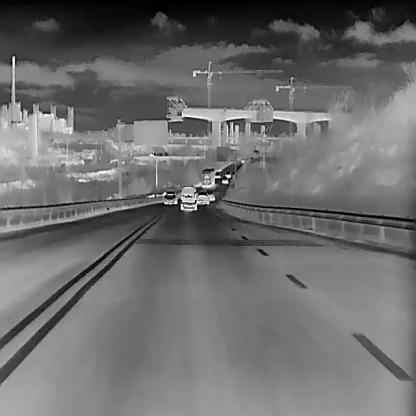car: (180, 186, 196, 210), (162, 191, 179, 210), (196, 191, 208, 205), (206, 190, 215, 201), (221, 176, 227, 184), (225, 171, 231, 178), (214, 171, 220, 178)
truck: (201, 166, 214, 188)
